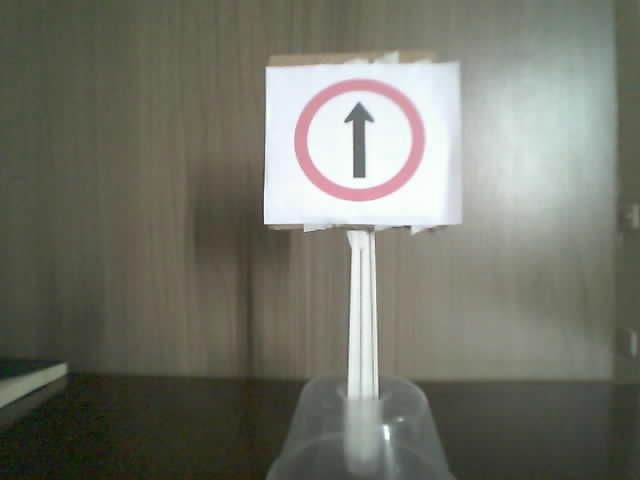R-26_frente: (294, 77, 424, 202)
